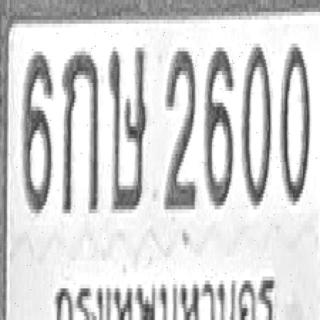A01: (62, 47, 99, 213)
A39: (108, 44, 146, 210)
N00: (280, 42, 310, 204), (242, 44, 272, 205)
N02: (164, 48, 196, 210)
N06: (23, 49, 53, 211), (205, 44, 233, 205)
